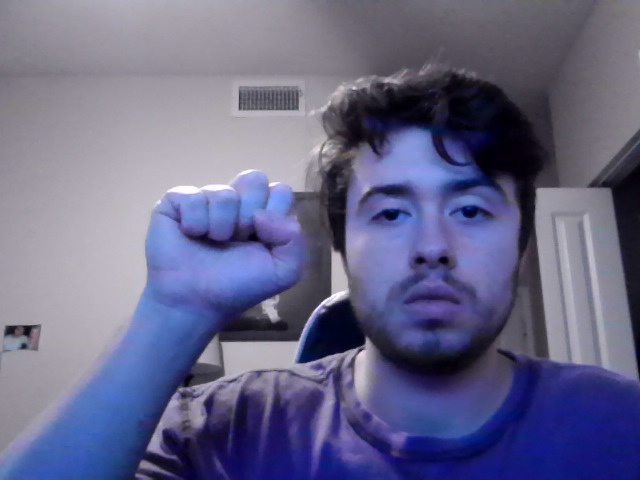s: (145, 169, 303, 344)
